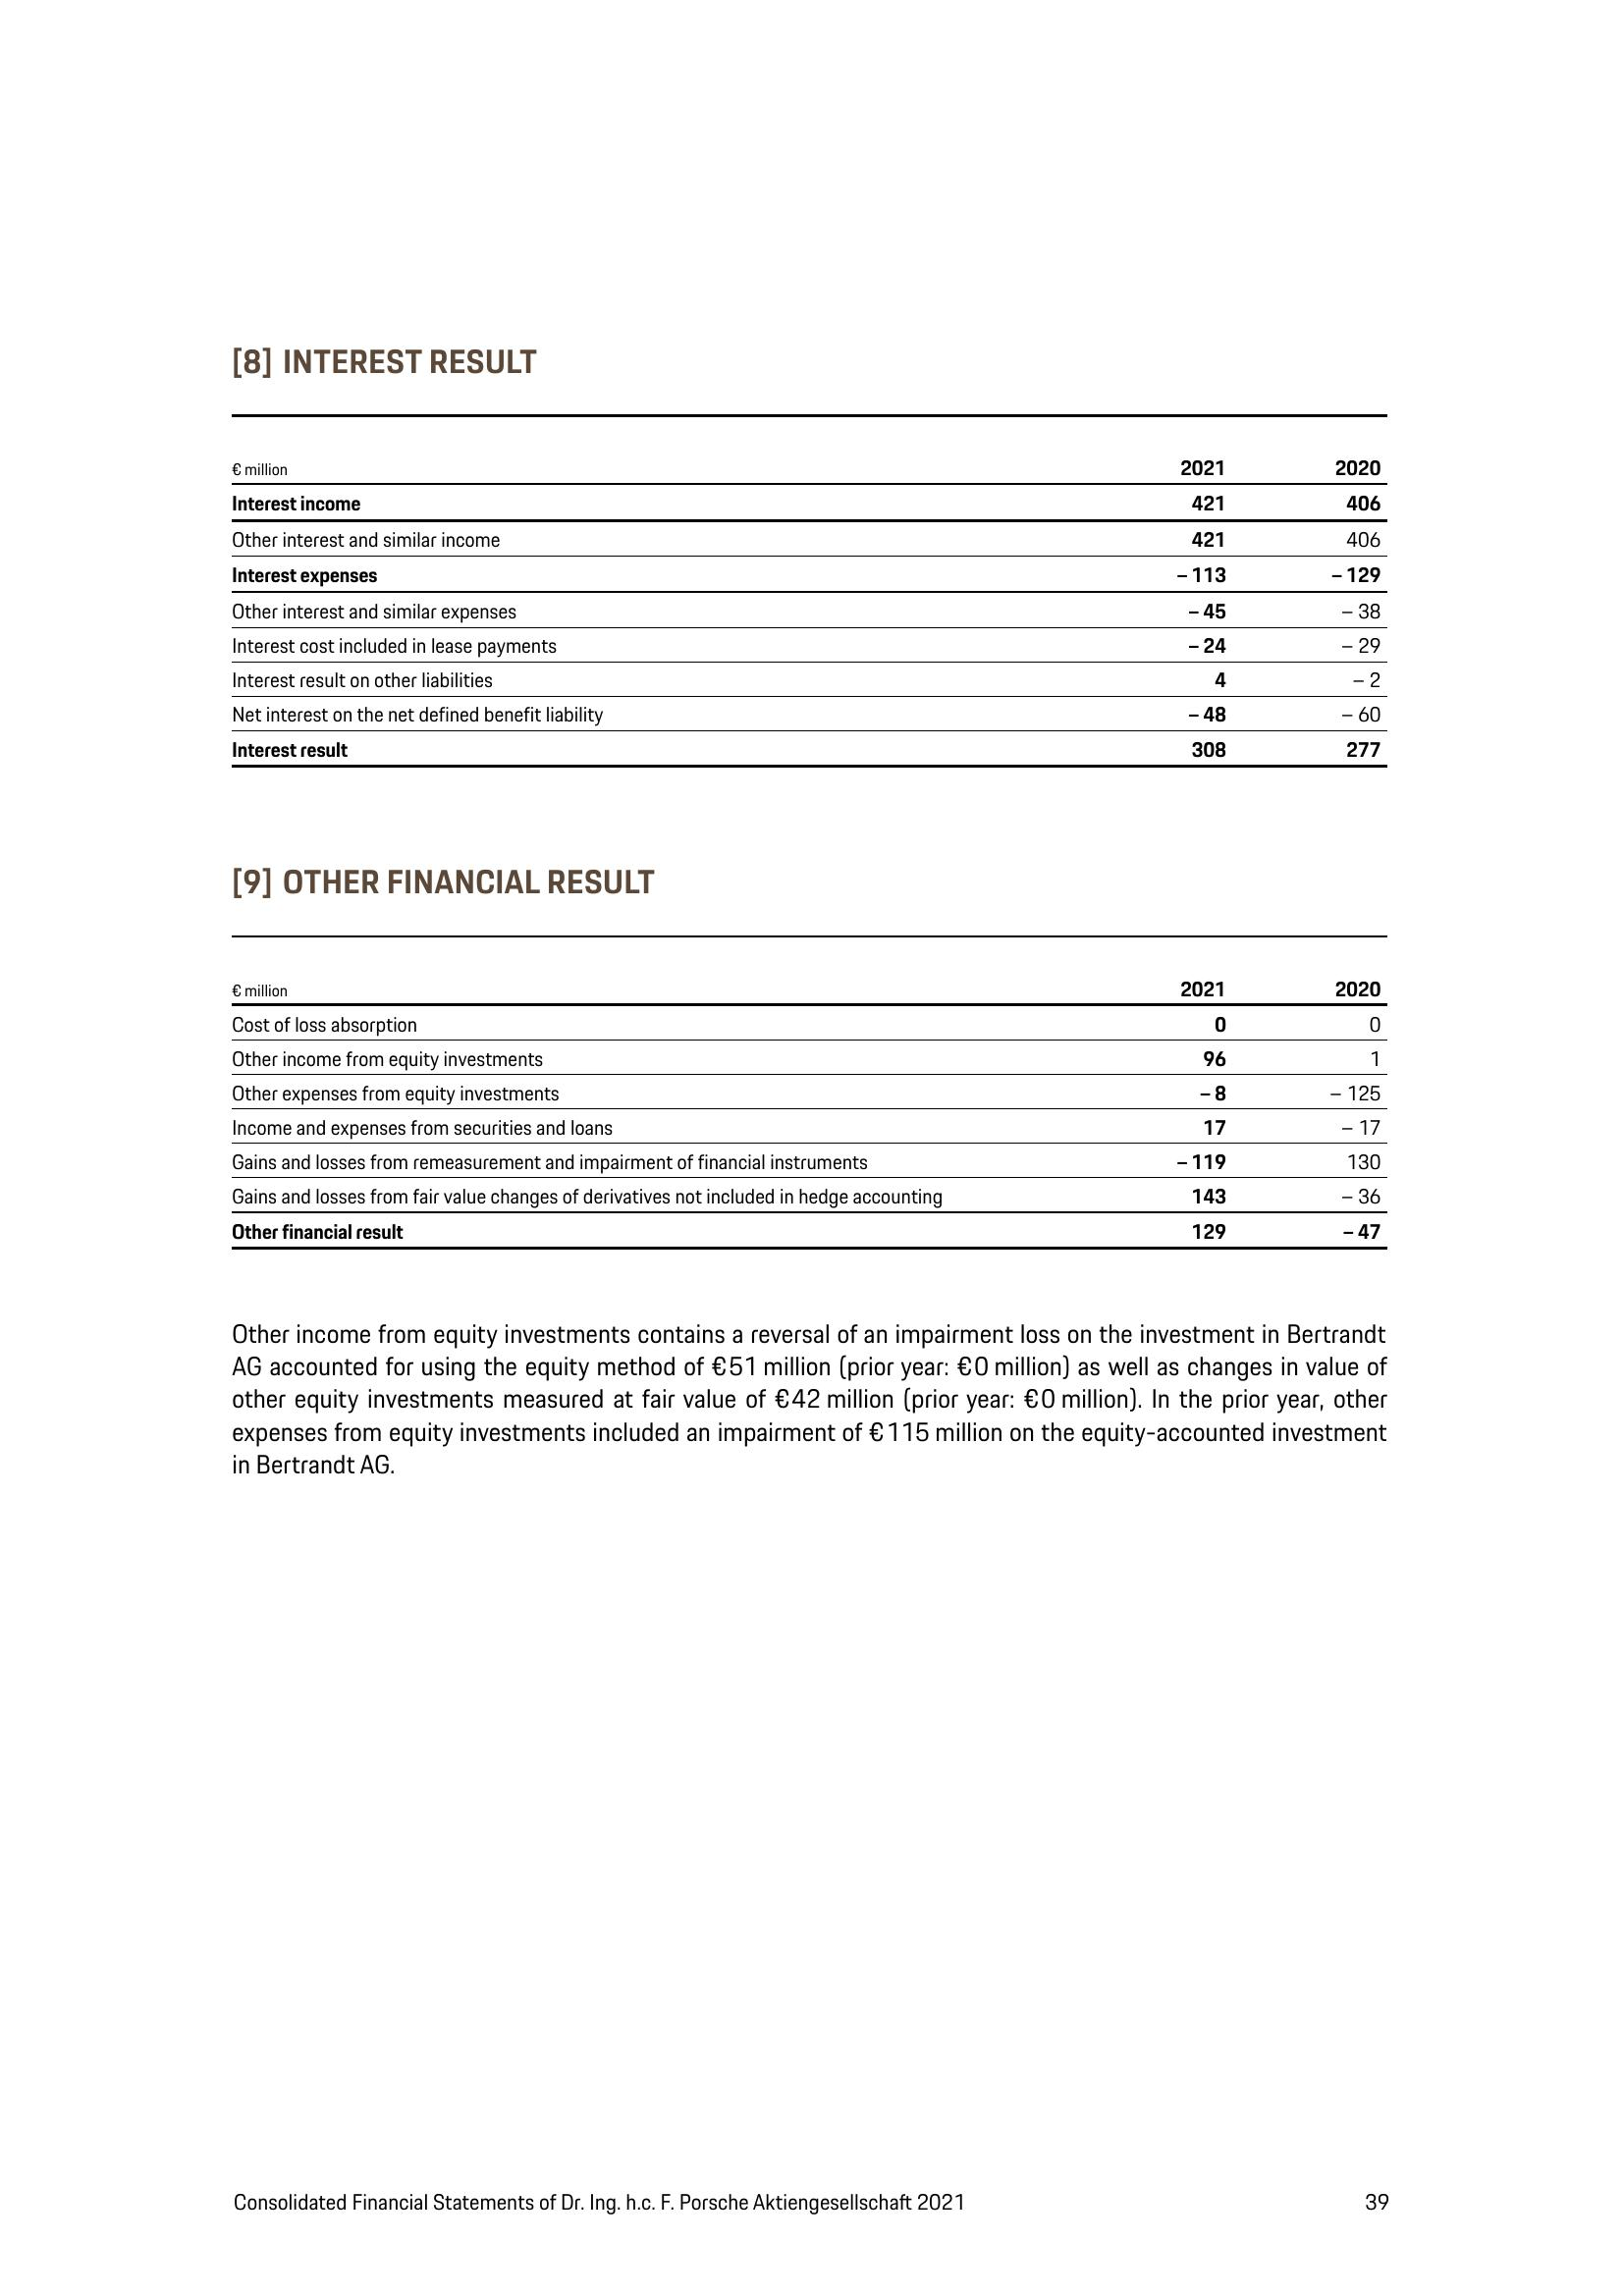Footer: (0, 2161, 1624, 2296)
Header: (0, 0, 1624, 188)
Table: (207, 408, 1434, 775), (204, 931, 1425, 1263)
